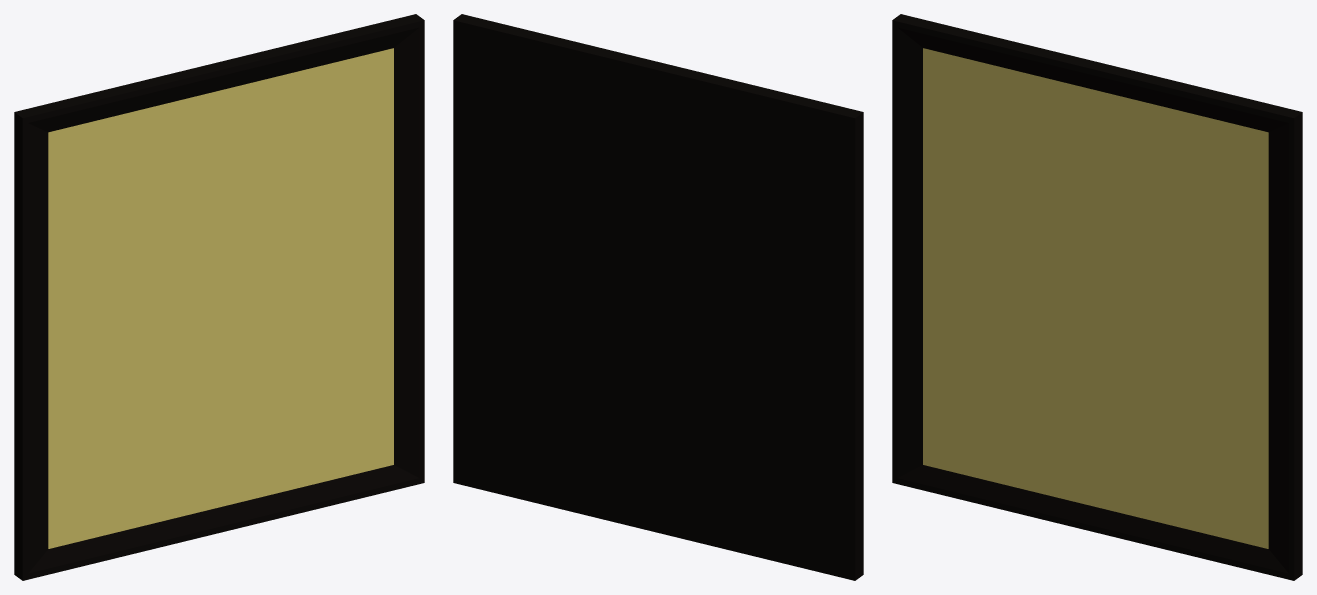
File: CuadroPequeno.fbx
3 renders of one model, left to right at view 1: azimuth 30°, elevation 25°; view 2: azimuth 150°, elevation 25°; view 3: azimuth 330°, elevation 25°, orthographic.
Visible parts, largest first — view 1: CuadroP; view 2: CuadroP; view 3: CuadroP.
Boxes of the visible parts, x1,y1,x2,y2 form: CuadroP: [14, 14, 424, 580]; CuadroP: [453, 14, 863, 580]; CuadroP: [892, 14, 1302, 580].
Bounding box in the file's own units: 0.6292 × 0.6921 × 0.0232.
